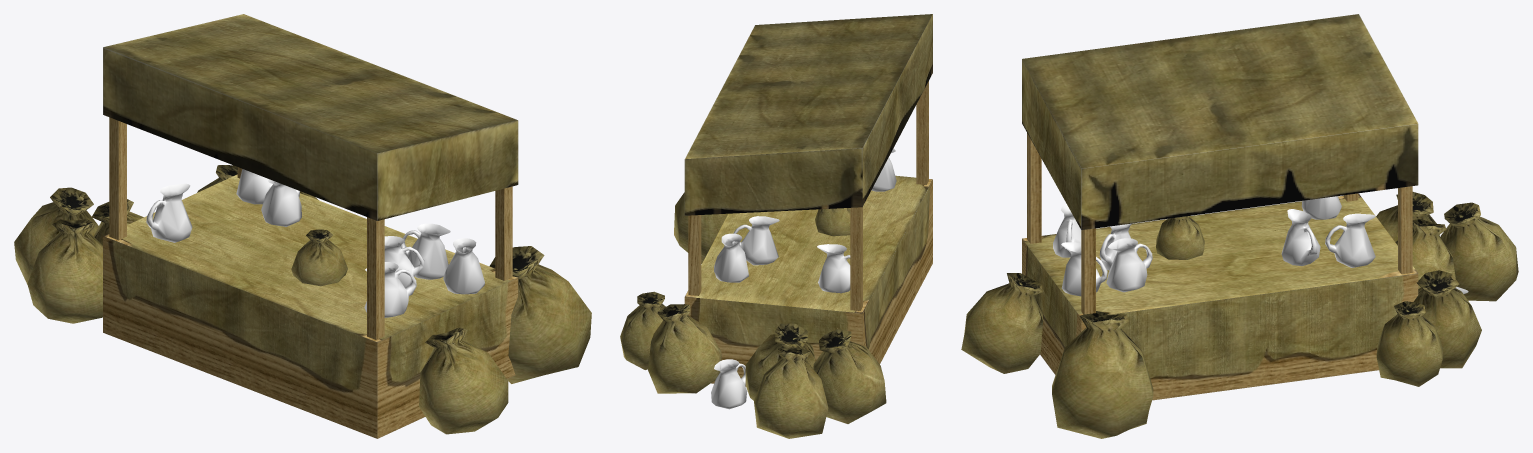
The model's file is store11_2.fbx.
3 renders of one model, left to right at view 1: azimuth 30°, elevation 25°; view 2: azimuth 150°, elevation 25°; view 3: azimuth 270°, elevation 25°, orthographic. The views are drawn at different scales.
Parts seen in each view (by area): view 1: stand_18, bag_153, bag_157, bag_159, bag_155, bag_158, pot_28, pot_29, pot_30, pot_25, pot_31, pot_26 (+2 smaller); view 2: stand_18, bag_155, bag_154, bag_159, bag_156, bag_160, pot_25, pot_27, bag_153, pot_28, pot_32, bag_158 (+1 smaller); view 3: stand_18, bag_153, bag_157, bag_155, bag_156, bag_154, bag_160, pot_32, pot_29, bag_158, pot_25, pot_30 (+4 smaller).
Boxes of the visible parts, bbox=[...] form: stand_18: bbox=[103, 14, 518, 438]; bag_153: bbox=[489, 246, 591, 383]; bag_157: bbox=[419, 327, 508, 434]; bag_159: bbox=[27, 219, 102, 323]; bag_155: bbox=[14, 187, 98, 284]; bag_158: bbox=[291, 229, 347, 286]; pot_28: bbox=[146, 183, 192, 242]; pot_29: bbox=[401, 223, 450, 279]; pot_30: bbox=[443, 238, 484, 294]; pot_25: bbox=[261, 179, 301, 226]; pot_31: bbox=[364, 262, 416, 317]; pot_26: bbox=[384, 236, 424, 288]; stand_18: bbox=[684, 14, 932, 386]; bag_155: bbox=[754, 347, 828, 438]; bag_154: bbox=[648, 304, 721, 393]; bag_159: bbox=[813, 329, 886, 423]; bag_156: bbox=[620, 291, 665, 369]; bag_160: bbox=[745, 323, 815, 400]; pot_25: bbox=[733, 216, 779, 265]; pot_27: bbox=[711, 359, 747, 409]; bag_153: bbox=[674, 192, 727, 263]; pot_28: bbox=[817, 244, 850, 293]; pot_32: bbox=[714, 233, 748, 282]; bag_158: bbox=[815, 208, 850, 236]; stand_18: bbox=[1022, 14, 1418, 400]; bag_153: bbox=[1052, 311, 1153, 438]; bag_157: bbox=[961, 273, 1043, 373]; bag_155: bbox=[1440, 202, 1518, 301]; bag_156: bbox=[1376, 301, 1442, 386]; bag_154: bbox=[1413, 270, 1481, 368]; bag_160: bbox=[1395, 219, 1455, 288]; pot_32: bbox=[1325, 213, 1375, 267]; pot_29: bbox=[1106, 238, 1152, 292]; bag_158: bbox=[1156, 215, 1204, 259]; pot_25: bbox=[1281, 209, 1320, 265]; pot_30: bbox=[1061, 242, 1107, 296].
Size of the model in its own units: 78.73 by 58.02 by 104.
